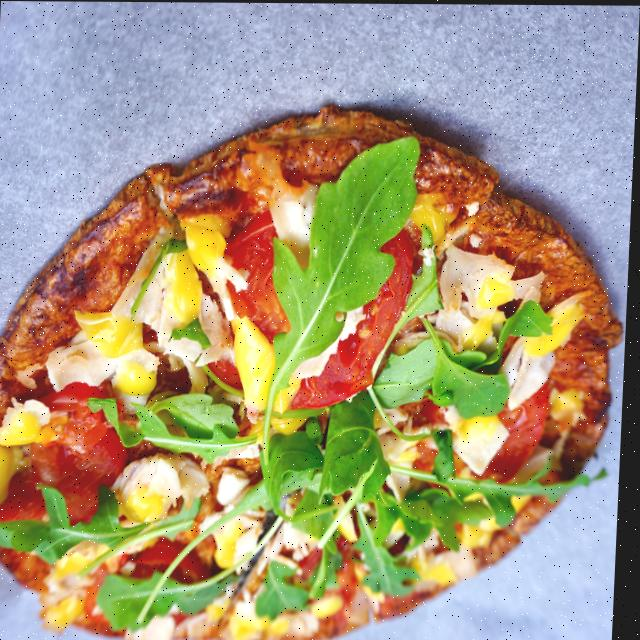pizza: (0, 106, 632, 640)
tomatoes: (295, 228, 416, 407), (0, 428, 132, 523), (223, 211, 295, 341), (485, 382, 553, 481), (44, 381, 115, 412), (137, 537, 188, 578), (402, 395, 449, 427), (176, 550, 216, 582)
